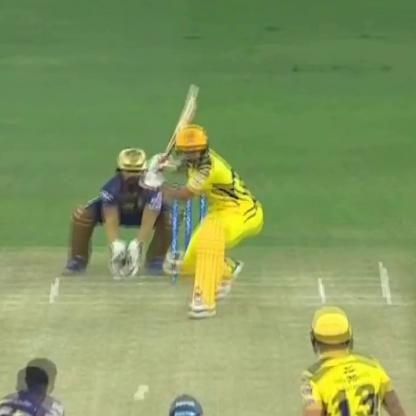ball: (137, 381, 151, 396), (136, 392, 145, 406)
bat: (154, 79, 197, 165)
pitch: (3, 254, 414, 416)
